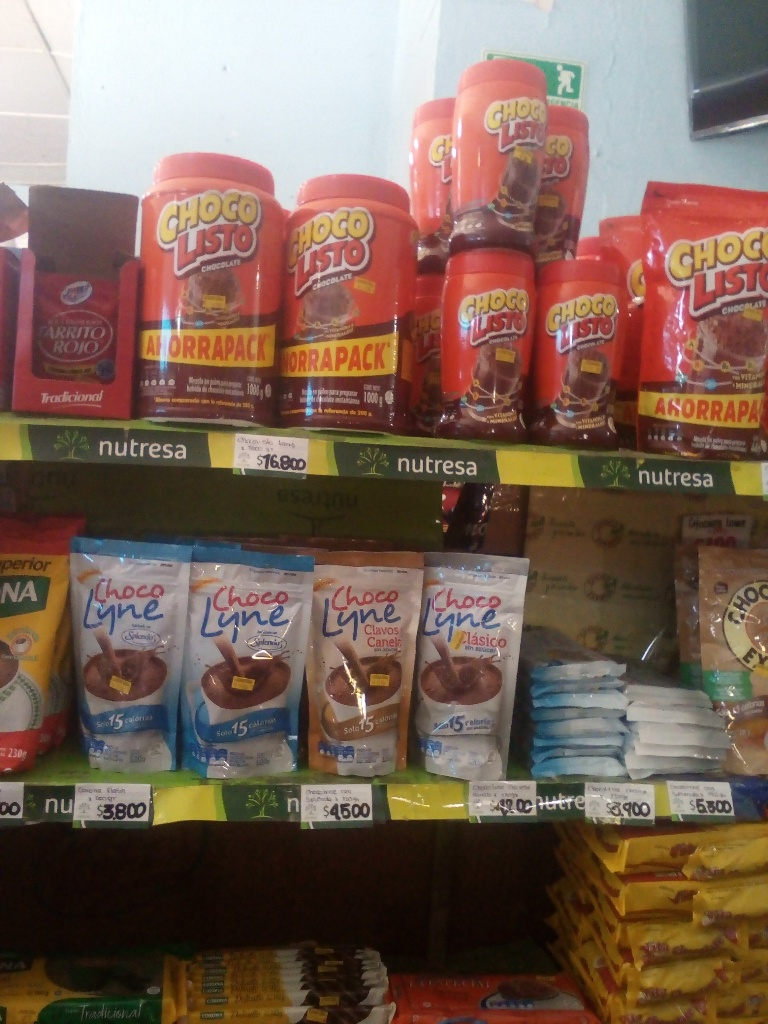COL0170103DYP44000: (631, 171, 768, 458)
COL0170103TRR00100: (129, 139, 291, 431)
